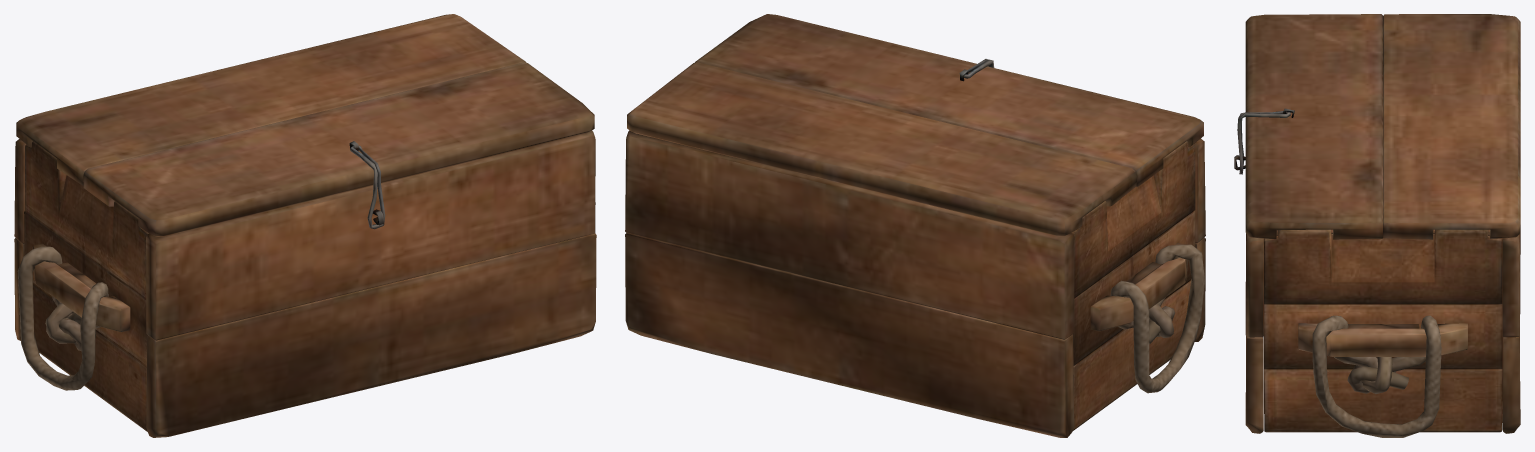
File: wooden_crate_01.glb
3 views of the same model, side by side, from view 1: azimuth 30°, elevation 25°; view 2: azimuth 150°, elevation 25°; view 3: azimuth 270°, elevation 25° (orthographic). The views are drawn at different scales.
Visible parts, largest first — view 1: wooden_crate_01_lid; view 2: wooden_crate_01_lid; view 3: wooden_crate_01_lid.
Boxes of the visible parts, x1,y1,x2,y2 form: wooden_crate_01_lid: (14, 14, 596, 437); wooden_crate_01_lid: (625, 14, 1205, 437); wooden_crate_01_lid: (1234, 14, 1520, 437).
Bounding box in the file's own units: 0.8245 × 0.3486 × 0.407.
1 material, 1 textured.
